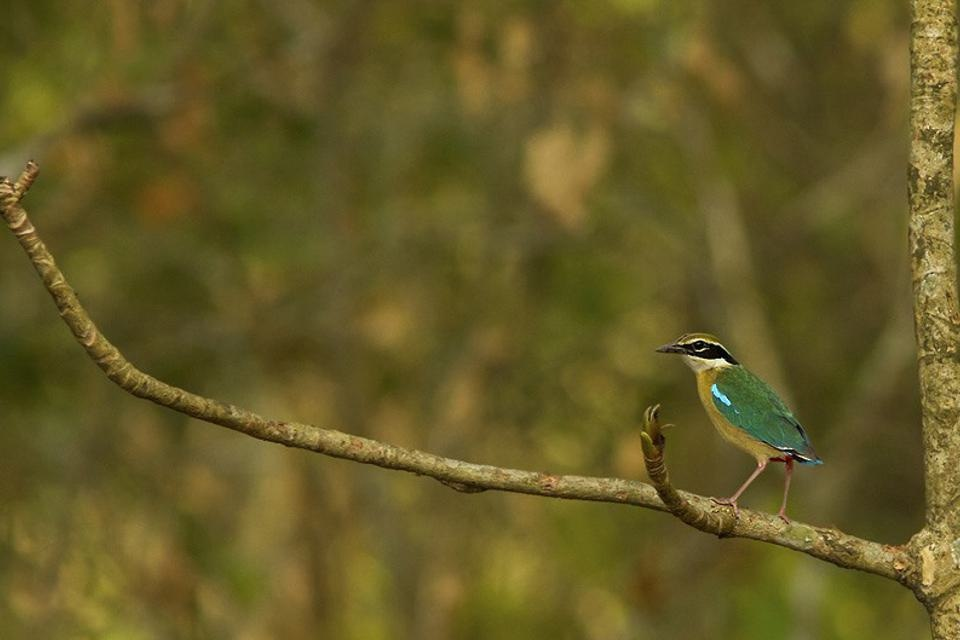pitta: (648, 308, 826, 568)
